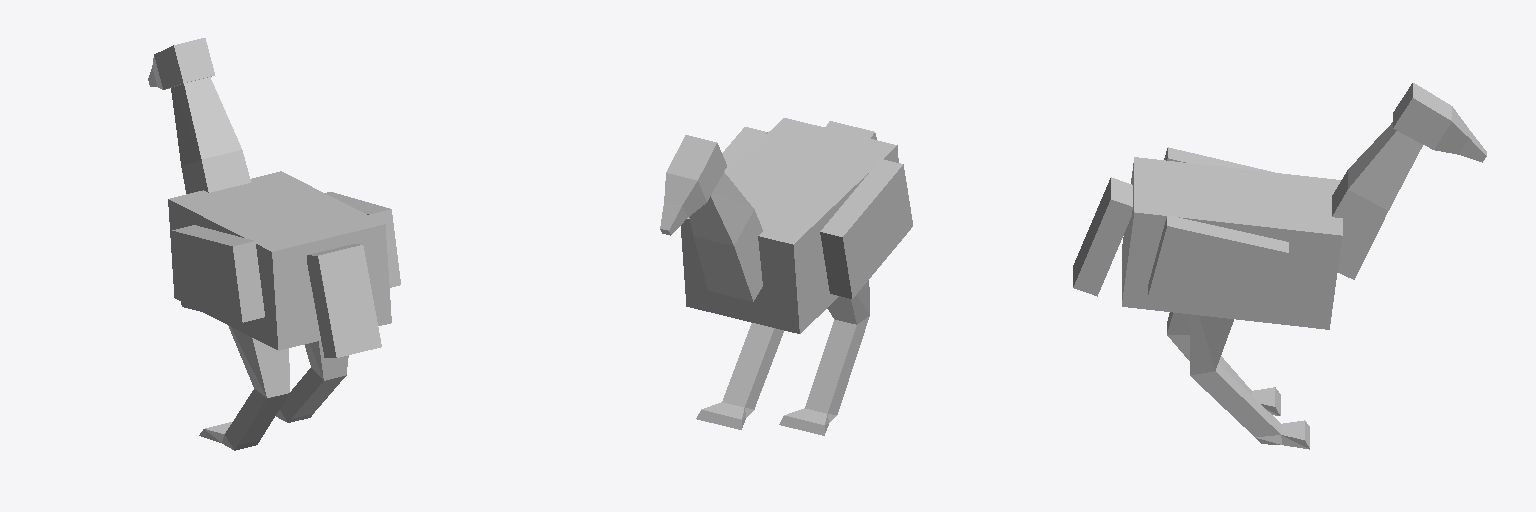
The model's file is Ostrich_000169.obj.
3 views of the same model, side by side, from view 1: azimuth 30°, elevation 25°; view 2: azimuth 150°, elevation 25°; view 3: azimuth 270°, elevation 25° (orthographic).
Visible parts, largest first — view 1: Cube_Cube.001; view 2: Cube_Cube.001; view 3: Cube_Cube.001.
Boxes of the visible parts, x1,y1,x2,y2 form: Cube_Cube.001: [148, 38, 400, 450]; Cube_Cube.001: [660, 118, 912, 435]; Cube_Cube.001: [1073, 83, 1486, 449].
Bounding box in the file's own units: 0.7 × 1.4 × 1.58.